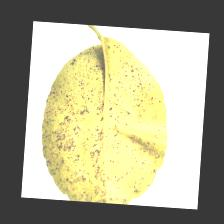canker: (43, 52, 156, 176)
